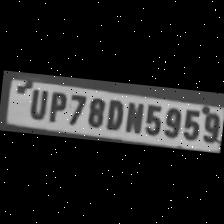5: (140, 101, 162, 137), (179, 106, 201, 142)
7: (62, 92, 86, 126)
8: (84, 94, 106, 130)
9: (198, 108, 222, 145), (160, 103, 181, 139)
D: (103, 96, 125, 132)
N: (122, 100, 145, 136)
P: (44, 88, 68, 124)
U: (24, 86, 48, 122)
